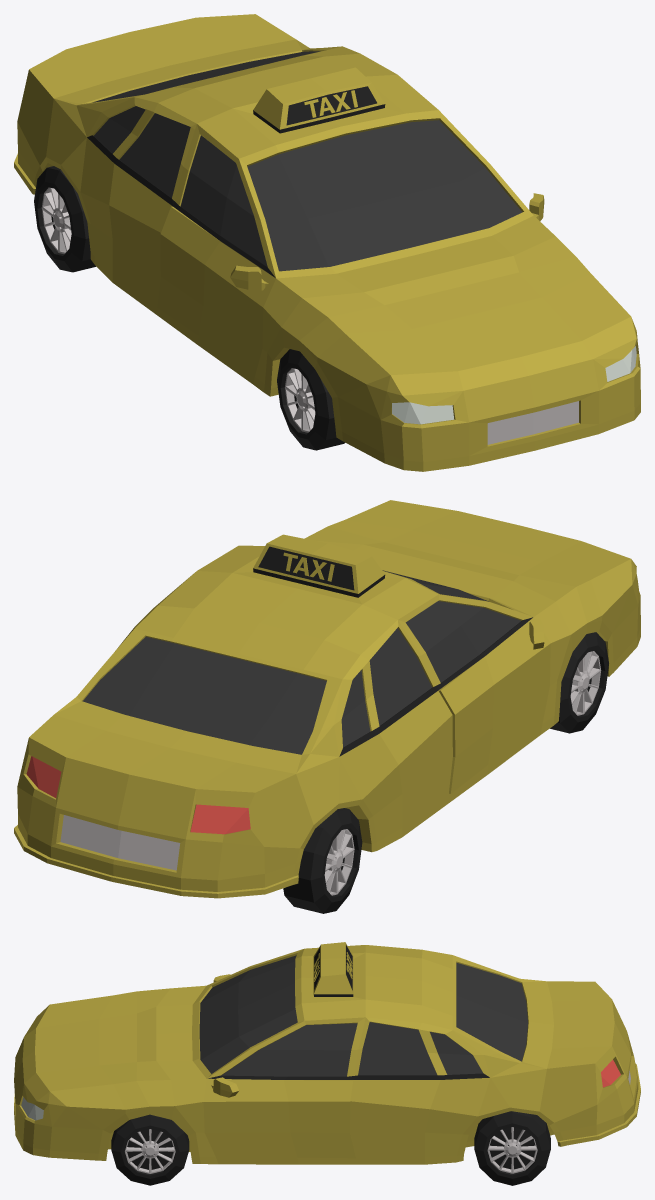
Rendered from car1.glb.
3 renders of one model, top to bottom at view 1: azimuth 30°, elevation 25°; view 2: azimuth 150°, elevation 25°; view 3: azimuth 270°, elevation 25°, orthographic. The views are drawn at different scales.
Visible parts, largest first — view 1: Taxi, Taxi_BackWheels, Taxi_FrontRightWheel; view 2: Taxi, Taxi_BackWheels, Taxi_FrontRightWheel; view 3: Taxi, Taxi_BackWheels, Taxi_FrontLeftWheel.
Boxes of the visible parts, x1,y1,x2,y2 form: Taxi: (14,14,640,471); Taxi_BackWheels: (34,166,95,272); Taxi_FrontRightWheel: (277,349,344,450); Taxi: (14,500,640,898); Taxi_BackWheels: (283,808,362,913); Taxi_FrontRightWheel: (550,632,608,733); Taxi: (14,942,640,1164); Taxi_BackWheels: (474,1111,550,1185); Taxi_FrontLeftWheel: (111,1114,189,1185).
Size of the model in its own units: 1.81 by 1.32 by 4.22.
